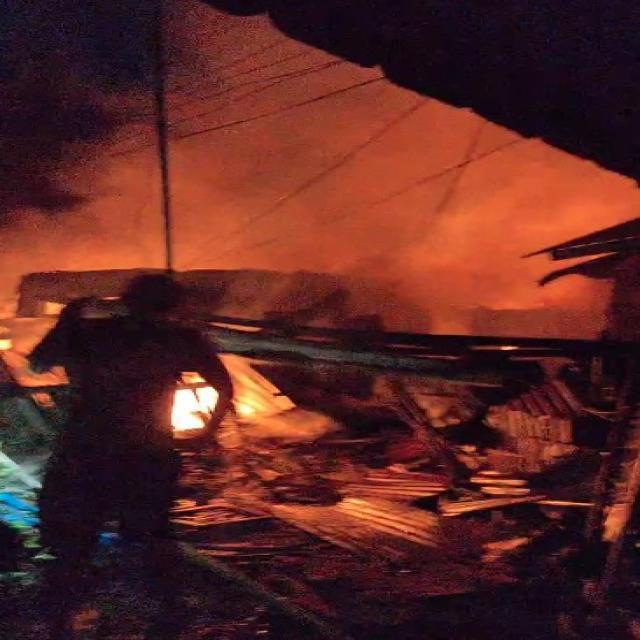Smoke: (228, 73, 606, 320)
